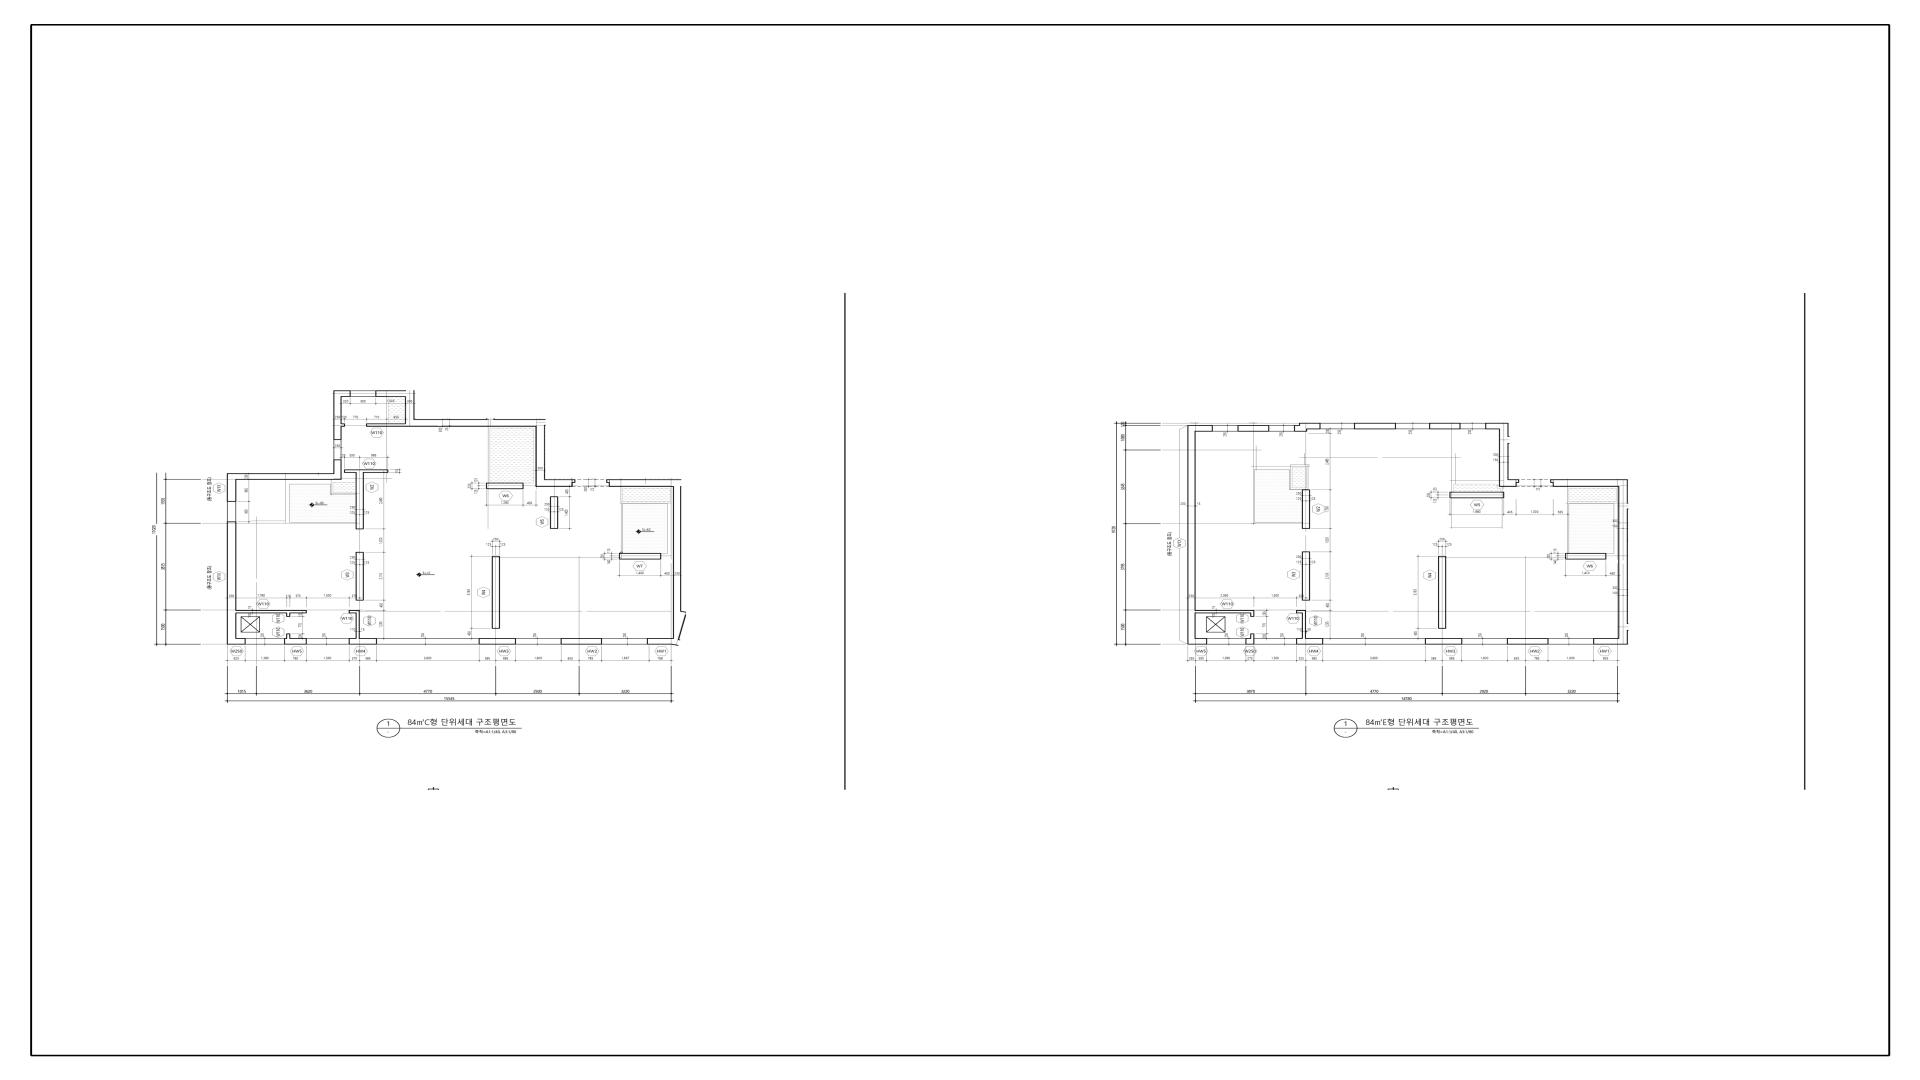wall: (1187, 431, 1196, 638), (1618, 487, 1629, 645), (673, 487, 682, 611), (227, 521, 236, 638), (414, 419, 545, 427), (236, 473, 334, 480), (492, 556, 500, 629), (1439, 556, 1447, 629), (1553, 480, 1629, 487), (609, 480, 682, 487), (535, 427, 545, 479), (1499, 430, 1509, 480), (1302, 551, 1311, 600), (356, 473, 364, 529), (673, 611, 687, 640), (356, 553, 364, 601), (1302, 489, 1311, 529), (1449, 492, 1505, 498), (334, 397, 342, 440), (405, 390, 414, 427), (535, 479, 572, 487), (618, 553, 662, 559), (560, 638, 603, 645), (1354, 423, 1396, 430), (1507, 638, 1548, 645), (1565, 553, 1606, 559), (227, 473, 236, 502), (647, 638, 680, 646), (550, 496, 558, 529), (479, 638, 516, 645), (487, 483, 524, 489), (1425, 638, 1462, 645), (1237, 425, 1270, 431), (1429, 423, 1461, 430), (348, 638, 377, 645), (376, 390, 405, 397), (236, 611, 307, 613), (344, 469, 389, 473), (1187, 425, 1213, 431), (1296, 638, 1323, 645), (334, 459, 342, 480), (1593, 638, 1618, 645), (284, 638, 307, 645), (1485, 423, 1509, 430), (367, 423, 405, 427), (1196, 611, 1250, 613), (1187, 638, 1207, 645), (227, 638, 245, 645), (334, 390, 351, 397), (1499, 480, 1516, 487), (356, 613, 360, 638), (1302, 613, 1305, 638), (1307, 423, 1320, 430), (1299, 423, 1307, 431), (1245, 638, 1254, 645), (1294, 425, 1299, 431), (348, 611, 360, 613), (1250, 611, 1254, 617), (1296, 611, 1305, 613), (286, 633, 290, 638), (1250, 633, 1254, 638), (342, 423, 345, 427), (286, 613, 290, 617), (607, 479, 609, 483), (572, 480, 575, 483), (1516, 480, 1519, 483), (1551, 480, 1553, 483)
